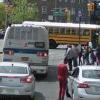Bus: (18, 13, 96, 50)
